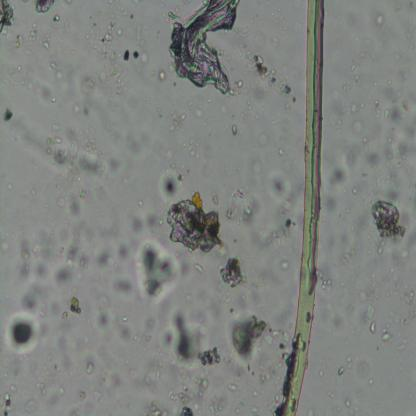Background material: (165, 190, 228, 258), (161, 305, 221, 370), (44, 124, 103, 182), (18, 260, 72, 312), (135, 241, 182, 300), (248, 53, 296, 104), (332, 209, 372, 269), (226, 314, 268, 367), (382, 101, 416, 165), (99, 23, 126, 100), (48, 319, 89, 369), (8, 64, 57, 103), (13, 15, 59, 54), (169, 374, 211, 416), (18, 226, 67, 258), (227, 186, 263, 229), (16, 356, 46, 405), (372, 200, 406, 243), (7, 312, 40, 356), (14, 110, 45, 155), (264, 209, 298, 249), (393, 291, 416, 349), (336, 97, 369, 131), (219, 256, 249, 293), (353, 21, 378, 64), (365, 70, 389, 113), (130, 206, 164, 236), (268, 172, 298, 206), (72, 76, 96, 118), (57, 188, 87, 220), (358, 279, 381, 319), (384, 50, 413, 81), (266, 329, 289, 365), (142, 361, 167, 394), (124, 132, 152, 161), (66, 242, 91, 272), (92, 292, 112, 329), (200, 94, 230, 118), (135, 22, 151, 66), (160, 172, 182, 200), (110, 274, 135, 298), (326, 164, 350, 188), (0, 0, 16, 36), (91, 244, 114, 269), (383, 170, 402, 199), (340, 67, 362, 92), (95, 219, 122, 239), (342, 140, 362, 166), (0, 384, 16, 416), (230, 70, 246, 100), (119, 313, 134, 344), (180, 139, 202, 160), (144, 398, 170, 414), (250, 159, 265, 185), (170, 110, 186, 134), (322, 195, 337, 217), (68, 293, 81, 318), (34, 0, 55, 15), (116, 242, 131, 262), (318, 271, 332, 292), (107, 154, 121, 175), (364, 149, 381, 166), (258, 367, 276, 383), (357, 358, 370, 378), (344, 398, 360, 414), (51, 63, 63, 82), (257, 130, 269, 149), (2, 108, 15, 125), (192, 101, 204, 119), (0, 238, 13, 254), (226, 380, 242, 392), (192, 260, 204, 276), (83, 362, 95, 376), (92, 388, 103, 403), (344, 355, 354, 371), (375, 13, 385, 27), (280, 257, 290, 271), (381, 330, 393, 341), (368, 320, 376, 336), (158, 70, 168, 82), (77, 390, 86, 403), (60, 309, 69, 321), (6, 180, 14, 192), (124, 50, 131, 63), (250, 404, 259, 414), (132, 50, 140, 61), (338, 365, 345, 377), (231, 125, 237, 137), (252, 388, 259, 398), (58, 386, 64, 396)
Cellulose filter fibre: (166, 1, 243, 96)
Microfibre: (280, 0, 325, 416)
